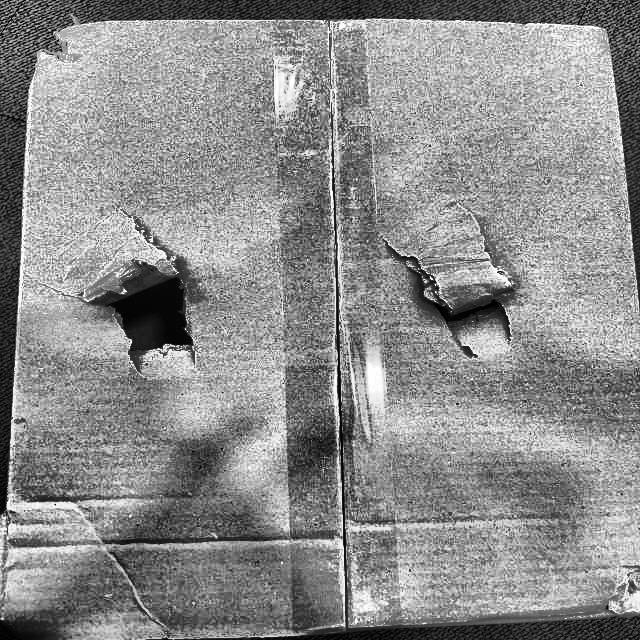box: (22, 14, 632, 640)
hole: (71, 256, 202, 372), (416, 286, 530, 365)
